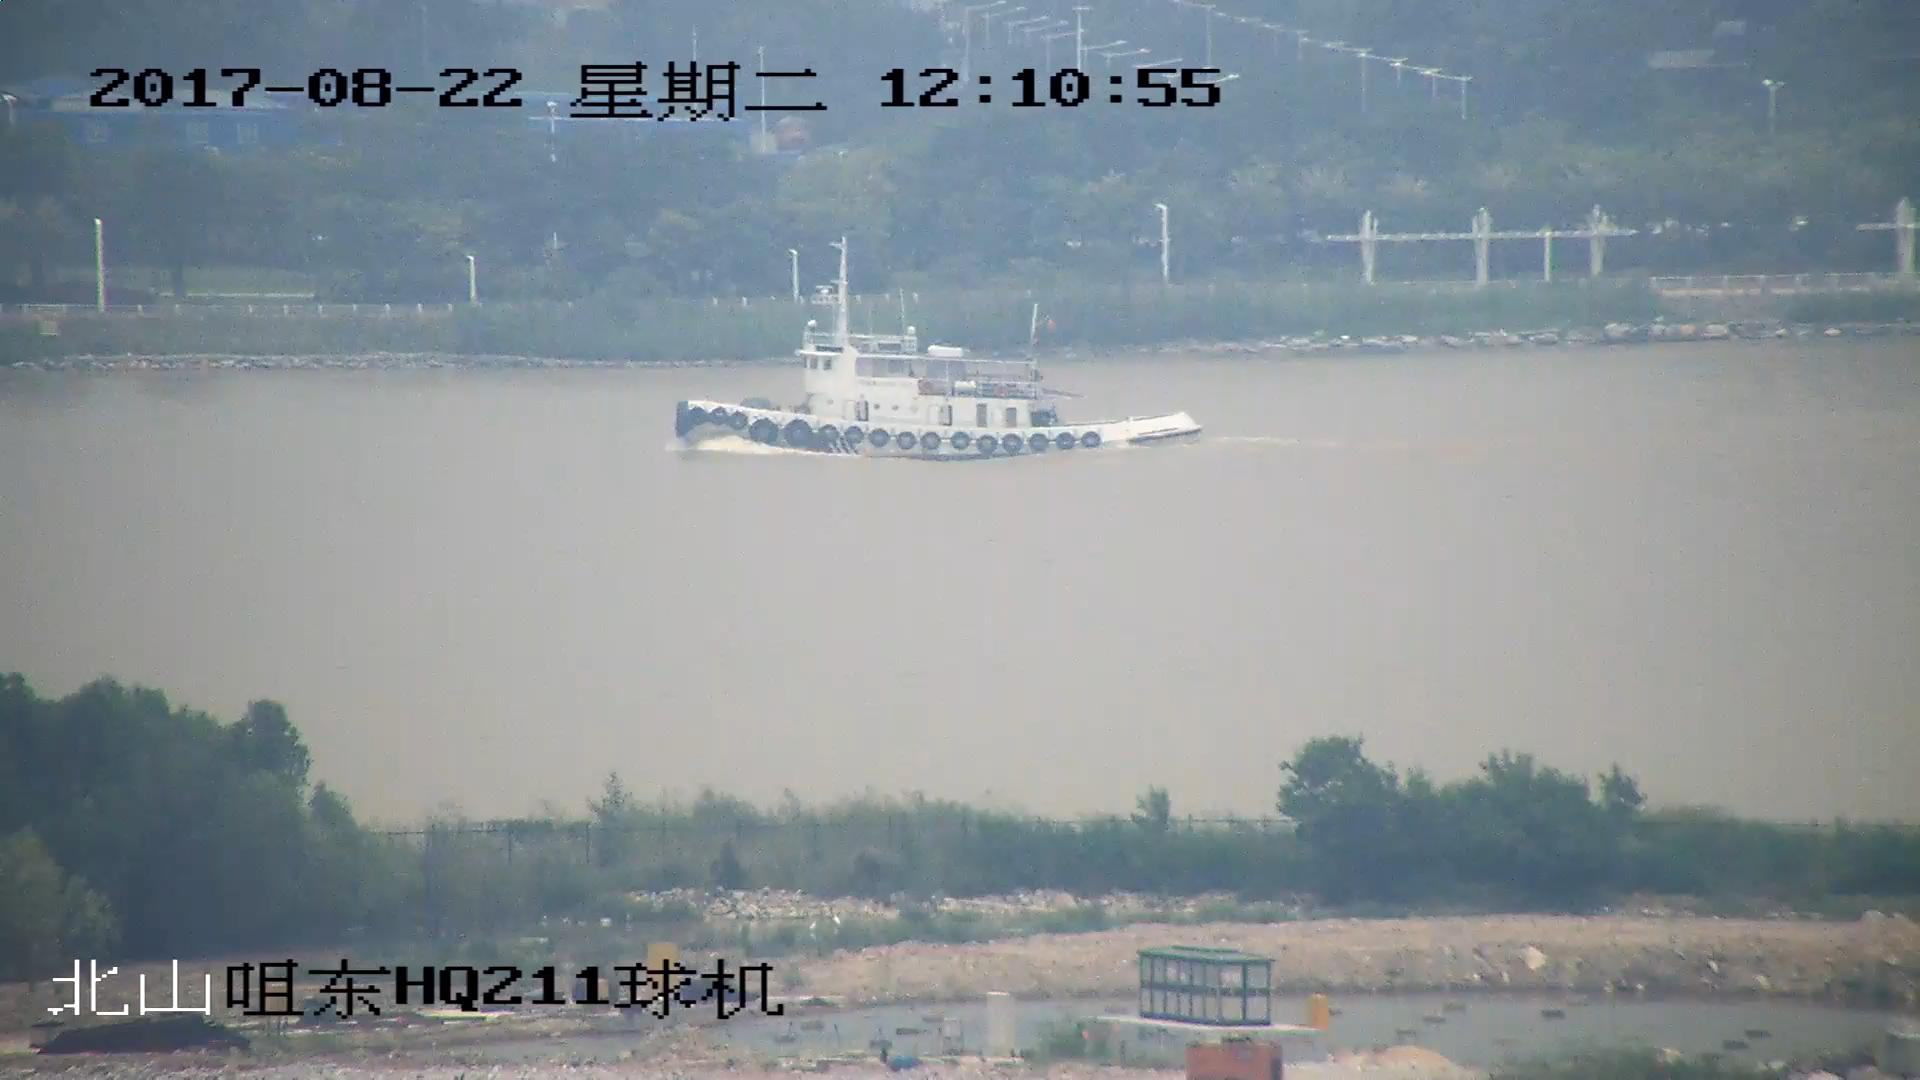passenger ship: (673, 243, 1206, 460)
